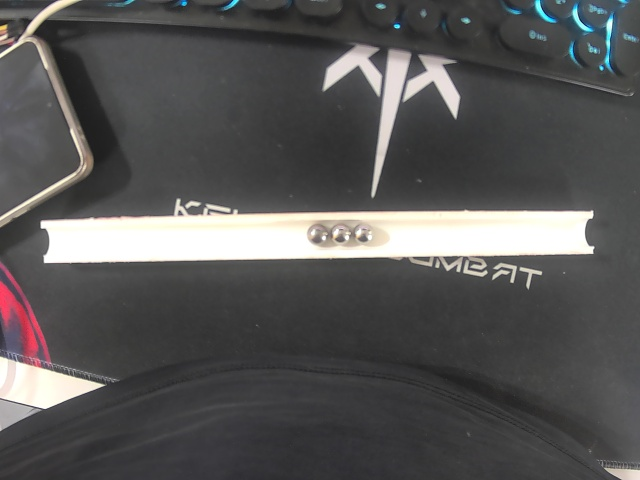steelball: (304, 221, 330, 246), (330, 222, 353, 246), (352, 222, 375, 245)
